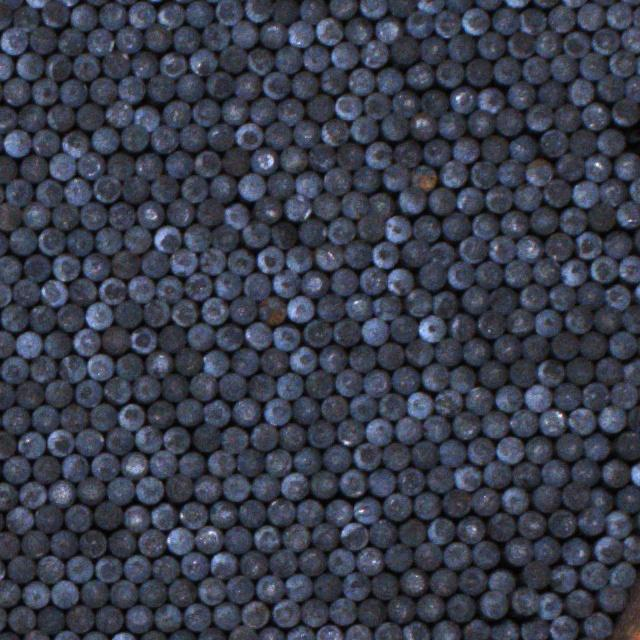tool: (256, 295, 285, 325), (561, 480, 590, 510), (340, 190, 370, 218), (221, 146, 249, 175), (252, 195, 281, 223), (297, 218, 326, 246), (154, 275, 182, 304), (512, 461, 541, 489), (359, 317, 388, 345), (305, 369, 333, 398), (5, 505, 33, 534), (194, 524, 222, 553), (238, 550, 266, 579), (94, 604, 123, 632), (110, 251, 140, 278), (598, 582, 626, 610), (576, 2, 604, 30), (420, 90, 448, 118), (182, 223, 210, 251), (314, 242, 342, 270), (418, 262, 446, 290), (358, 266, 386, 294), (464, 386, 492, 414), (476, 310, 504, 338), (493, 334, 521, 362), (594, 358, 622, 386), (597, 404, 625, 432), (494, 384, 522, 412), (509, 408, 537, 436), (541, 458, 569, 486), (500, 486, 528, 514), (520, 560, 548, 588), (564, 588, 592, 616), (446, 593, 474, 621), (156, 324, 184, 352), (186, 322, 214, 350), (244, 321, 272, 349), (344, 292, 372, 320), (259, 348, 287, 376), (288, 345, 316, 373), (15, 380, 43, 408), (132, 374, 160, 402), (218, 372, 246, 400), (391, 366, 419, 394), (231, 398, 259, 426), (74, 428, 102, 456), (306, 420, 334, 448), (2, 455, 30, 483), (90, 452, 118, 480), (236, 448, 264, 476), (292, 446, 320, 474), (352, 442, 380, 470), (76, 476, 104, 504), (192, 474, 220, 502), (280, 472, 308, 500), (367, 468, 395, 496), (352, 496, 380, 524), (383, 492, 411, 520), (412, 491, 440, 519), (137, 528, 165, 556), (223, 526, 251, 554), (340, 522, 368, 550), (456, 515, 484, 543), (603, 510, 631, 538), (122, 554, 150, 582), (442, 542, 470, 570), (138, 578, 166, 606), (168, 578, 196, 606), (255, 574, 283, 602), (313, 572, 341, 600), (399, 568, 427, 596), (357, 598, 385, 626), (240, 600, 268, 628), (65, 604, 93, 632), (98, 1, 125, 30), (128, 0, 155, 29), (554, 433, 583, 460), (388, 314, 417, 341), (362, 368, 389, 397), (433, 389, 462, 416), (322, 444, 351, 471), (50, 529, 77, 558), (282, 523, 309, 552), (593, 535, 620, 564), (269, 548, 296, 577), (355, 546, 382, 575), (504, 308, 534, 334), (485, 514, 515, 540), (315, 17, 342, 45), (406, 10, 433, 38), (461, 6, 488, 34), (15, 52, 42, 80), (188, 48, 216, 75), (360, 40, 387, 68), (391, 35, 418, 63), (522, 56, 549, 84), (17, 105, 45, 132), (363, 141, 391, 168), (480, 135, 508, 162), (587, 203, 615, 230), (63, 177, 90, 205), (92, 175, 120, 202), (150, 175, 178, 202), (323, 167, 351, 194), (352, 166, 380, 193), (312, 192, 339, 220), (9, 227, 37, 254), (37, 227, 65, 254), (153, 225, 180, 253), (169, 248, 196, 276), (141, 250, 168, 278), (82, 253, 110, 280), (40, 279, 67, 307), (127, 275, 154, 303), (458, 236, 486, 263), (544, 233, 572, 260), (574, 231, 602, 258), (474, 260, 502, 287), (434, 336, 461, 364), (480, 409, 507, 437), (548, 509, 575, 537), (580, 560, 607, 588), (576, 282, 604, 309), (578, 332, 606, 359), (550, 332, 578, 359), (521, 334, 549, 361), (565, 357, 593, 384), (580, 382, 608, 409), (538, 408, 565, 436), (524, 436, 552, 463), (571, 459, 599, 486), (518, 511, 546, 538), (532, 535, 559, 563), (479, 590, 506, 618), (457, 567, 485, 594), (85, 302, 112, 330), (228, 296, 255, 324), (304, 319, 332, 346), (58, 354, 85, 382), (230, 348, 258, 375), (319, 344, 346, 372), (160, 374, 187, 402), (189, 372, 216, 400), (334, 368, 361, 396), (60, 404, 87, 432), (263, 398, 291, 425), (348, 393, 376, 420), (364, 418, 392, 445), (149, 450, 176, 478), (264, 448, 291, 476), (410, 440, 437, 468), (438, 439, 465, 467), (18, 481, 46, 508), (251, 474, 279, 501), (35, 504, 62, 532), (209, 500, 236, 528), (266, 498, 294, 525), (21, 529, 48, 557), (369, 518, 396, 546), (65, 554, 92, 582), (152, 556, 179, 584), (210, 551, 237, 579), (298, 547, 325, 575), (326, 548, 354, 575), (384, 543, 411, 571), (197, 576, 224, 604), (225, 574, 252, 602), (342, 572, 369, 600), (429, 568, 456, 596), (416, 593, 443, 621), (328, 597, 356, 624), (272, 599, 299, 627), (212, 602, 239, 630), (183, 603, 210, 631), (154, 603, 181, 631), (273, 269, 299, 298), (102, 326, 128, 355), (48, 479, 74, 508), (165, 473, 191, 502), (41, 0, 68, 27), (185, 0, 212, 27), (29, 26, 56, 53), (144, 23, 171, 50), (274, 46, 301, 73), (476, 32, 503, 59), (262, 71, 289, 98), (349, 116, 376, 143), (580, 102, 607, 129), (48, 153, 75, 180), (250, 147, 277, 174), (613, 152, 640, 179), (497, 159, 524, 186), (180, 174, 207, 201), (237, 173, 264, 200), (381, 163, 408, 190), (529, 207, 556, 234), (51, 202, 78, 229), (79, 202, 106, 229), (196, 199, 223, 226), (94, 227, 121, 254), (123, 225, 150, 252), (22, 254, 49, 281), (12, 279, 39, 306), (402, 240, 429, 267), (515, 235, 542, 262), (504, 259, 531, 286), (404, 289, 431, 316), (417, 314, 444, 341), (461, 285, 488, 312), (553, 382, 580, 409), (524, 384, 551, 411), (0, 356, 27, 383), (421, 363, 448, 390), (1, 406, 28, 433), (17, 430, 44, 457), (134, 425, 161, 452), (220, 426, 247, 453), (250, 423, 277, 450), (394, 417, 421, 444), (382, 442, 409, 469), (106, 477, 133, 504), (135, 476, 162, 503), (222, 474, 249, 501), (453, 464, 480, 491), (471, 488, 498, 515), (442, 489, 469, 516), (166, 526, 193, 553), (7, 555, 34, 582), (94, 555, 121, 582), (180, 552, 207, 579), (21, 581, 48, 608), (51, 580, 78, 607), (80, 579, 107, 606), (284, 573, 311, 600), (387, 595, 414, 622), (157, 1, 183, 29), (230, 20, 256, 48), (219, 44, 245, 72), (591, 28, 619, 54), (176, 74, 202, 102), (234, 72, 260, 100), (46, 103, 74, 129), (249, 97, 275, 125), (3, 128, 29, 156), (279, 146, 307, 172), (336, 142, 362, 170), (540, 130, 568, 156), (568, 130, 596, 156), (596, 130, 624, 156), (524, 159, 552, 185), (556, 154, 584, 180), (599, 178, 625, 206), (120, 176, 148, 202), (294, 170, 320, 198), (500, 210, 526, 238), (22, 201, 48, 229), (166, 198, 192, 226), (284, 192, 310, 220), (241, 221, 269, 247), (98, 276, 124, 304), (198, 248, 226, 274), (488, 235, 514, 263), (603, 231, 631, 257), (300, 270, 326, 298), (496, 436, 522, 464), (568, 406, 594, 434), (484, 460, 510, 488), (15, 330, 41, 358), (28, 304, 54, 332), (114, 299, 140, 327), (171, 298, 197, 326), (201, 297, 227, 325), (72, 328, 100, 354), (214, 324, 242, 350), (316, 294, 344, 320), (175, 347, 201, 375), (405, 340, 433, 366), (44, 379, 70, 407), (74, 379, 100, 407), (104, 376, 130, 404), (248, 374, 276, 400), (147, 400, 173, 428), (406, 391, 432, 419), (46, 428, 72, 456), (193, 423, 219, 451), (336, 418, 362, 446), (339, 468, 365, 496), (397, 467, 423, 495), (65, 504, 91, 532), (94, 501, 120, 529), (238, 499, 264, 527), (325, 499, 351, 527), (78, 529, 104, 557), (252, 524, 278, 552), (110, 579, 136, 607), (301, 598, 327, 626), (126, 604, 152, 632), (582, 612, 611, 637), (35, 178, 60, 207), (1, 303, 26, 332), (609, 562, 636, 588), (57, 28, 83, 55), (86, 29, 113, 55), (115, 26, 141, 53), (172, 26, 198, 53), (344, 18, 371, 44), (434, 10, 460, 37), (518, 8, 545, 34), (73, 53, 99, 80), (160, 52, 187, 78), (245, 48, 272, 74), (330, 42, 357, 68), (418, 36, 444, 63), (447, 35, 474, 61), (291, 72, 318, 98), (466, 59, 492, 86), (493, 57, 519, 84), (550, 54, 576, 81), (578, 52, 604, 79), (163, 100, 190, 126), (192, 99, 218, 126), (277, 98, 303, 125), (306, 94, 333, 120), (392, 90, 419, 116), (450, 87, 476, 114), (567, 78, 593, 105), (121, 124, 148, 150), (235, 122, 261, 149), (78, 152, 104, 179), (106, 153, 132, 180), (136, 153, 162, 180), (166, 151, 192, 178), (422, 139, 449, 165), (509, 135, 535, 162), (440, 160, 466, 187), (584, 154, 610, 181), (559, 208, 586, 234), (4, 178, 30, 205), (209, 175, 235, 202), (266, 171, 292, 198), (456, 187, 483, 213), (383, 216, 410, 242), (412, 215, 438, 242), (442, 212, 469, 238), (471, 213, 498, 239), (513, 182, 540, 208), (108, 202, 134, 229), (136, 200, 162, 227), (223, 202, 249, 229), (328, 217, 354, 244), (211, 223, 237, 250), (52, 254, 78, 281), (68, 278, 95, 304), (257, 246, 283, 273), (285, 245, 311, 272), (344, 240, 371, 266), (447, 261, 473, 288), (532, 258, 559, 284), (590, 256, 617, 282), (214, 272, 240, 299), (243, 273, 269, 300), (330, 268, 357, 294), (532, 484, 558, 511), (488, 287, 515, 313), (518, 284, 545, 310), (534, 308, 560, 335), (564, 306, 590, 333), (593, 306, 619, 333), (609, 332, 636, 358), (462, 338, 488, 365), (509, 360, 536, 386), (602, 459, 628, 486), (549, 564, 576, 590), (472, 540, 498, 567), (510, 587, 537, 613), (56, 304, 82, 331), (286, 295, 312, 322), (332, 318, 358, 345), (29, 355, 55, 382), (86, 353, 112, 380), (116, 353, 142, 380), (145, 350, 171, 377), (276, 372, 302, 399), (32, 405, 58, 432), (90, 403, 116, 430), (175, 399, 202, 425), (202, 400, 229, 426), (292, 396, 318, 423), (320, 395, 347, 421), (378, 393, 405, 419), (105, 427, 132, 453), (452, 412, 479, 438), (32, 456, 59, 482), (61, 454, 87, 481), (121, 452, 147, 479), (310, 471, 336, 498), (426, 466, 453, 492), (179, 502, 206, 528), (296, 499, 322, 526), (312, 523, 338, 550), (427, 518, 454, 544), (36, 556, 63, 582), (414, 542, 440, 569), (12, 4, 37, 32), (215, 0, 243, 25), (374, 17, 402, 42), (3, 77, 28, 105), (134, 104, 159, 132), (615, 200, 640, 228), (543, 180, 571, 205), (410, 164, 435, 192), (357, 213, 382, 241), (448, 312, 473, 340), (143, 298, 168, 326), (372, 294, 400, 319), (615, 484, 640, 512), (70, 4, 96, 30), (0, 27, 26, 53), (202, 23, 228, 49), (260, 22, 286, 48), (492, 8, 518, 34), (548, 6, 574, 32), (606, 2, 632, 28), (44, 53, 70, 79), (102, 51, 128, 77), (302, 45, 328, 71), (534, 30, 560, 56), (60, 80, 86, 106), (147, 75, 173, 101), (406, 63, 432, 89), (436, 61, 462, 87), (609, 50, 635, 76), (106, 100, 132, 126), (222, 98, 248, 124), (364, 92, 390, 118), (508, 82, 534, 108), (321, 119, 347, 145), (496, 108, 522, 134), (526, 104, 552, 130), (20, 155, 46, 181), (308, 144, 334, 170), (452, 137, 478, 163), (572, 181, 598, 207), (184, 274, 210, 300), (372, 242, 398, 268), (560, 259, 586, 285), (562, 538, 588, 564), (610, 381, 636, 407), (479, 362, 505, 388), (584, 433, 610, 459), (504, 538, 530, 564), (273, 324, 299, 350), (202, 350, 228, 376), (278, 423, 304, 449), (423, 415, 449, 441), (178, 451, 204, 477), (398, 520, 424, 546), (577, 508, 603, 534), (8, 606, 34, 632), (287, 20, 312, 47), (562, 32, 589, 57), (88, 78, 115, 103), (409, 112, 434, 139), (193, 151, 220, 176), (428, 188, 453, 215), (485, 185, 510, 212), (429, 241, 454, 268), (449, 366, 474, 393), (549, 615, 576, 640), (348, 346, 375, 371), (377, 342, 402, 369), (118, 403, 143, 430), (162, 427, 189, 452), (207, 451, 234, 476), (123, 505, 148, 532), (151, 502, 176, 529), (109, 529, 134, 556), (37, 606, 62, 633), (507, 32, 533, 57), (118, 76, 143, 102), (206, 72, 231, 98), (320, 68, 345, 94), (376, 68, 401, 94), (77, 104, 103, 129), (538, 82, 564, 107), (32, 129, 58, 154), (438, 112, 463, 138), (394, 140, 419, 166), (399, 187, 424, 213), (368, 192, 393, 218), (270, 222, 295, 248), (67, 230, 92, 256), (227, 249, 252, 275), (431, 290, 456, 316), (548, 284, 574, 309), (604, 284, 629, 310), (536, 360, 562, 385), (615, 432, 640, 458), (468, 437, 493, 463), (43, 332, 69, 357), (130, 327, 156, 352), (371, 573, 396, 599), (334, 95, 361, 119), (388, 268, 412, 295), (537, 592, 561, 619), (299, 0, 327, 23), (520, 617, 548, 640), (131, 52, 156, 77), (32, 78, 57, 103), (478, 88, 503, 113), (92, 127, 117, 152), (265, 121, 290, 146), (554, 105, 579, 130), (612, 99, 637, 124), (471, 162, 496, 187), (348, 68, 372, 94), (62, 130, 86, 156), (206, 124, 232, 148), (293, 120, 317, 146), (380, 114, 406, 138), (468, 110, 492, 136), (244, 0, 272, 22), (598, 75, 622, 100), (152, 126, 176, 151), (488, 569, 513, 593), (272, 0, 298, 23), (180, 124, 203, 150), (462, 618, 489, 640), (0, 201, 20, 230), (618, 255, 640, 281), (590, 488, 612, 514), (491, 619, 518, 640), (620, 304, 640, 332), (0, 255, 20, 282), (328, 0, 356, 19), (358, 0, 386, 19), (620, 536, 640, 562), (620, 26, 640, 52), (432, 620, 458, 640), (0, 531, 19, 558), (0, 579, 19, 606), (374, 622, 402, 640), (403, 621, 429, 640), (386, 0, 416, 16), (0, 482, 17, 509), (622, 360, 640, 385), (0, 156, 16, 184), (344, 623, 370, 640), (315, 624, 342, 640), (0, 431, 15, 459), (228, 625, 256, 640), (0, 106, 16, 132), (624, 74, 640, 100), (286, 625, 313, 640), (626, 404, 640, 432), (0, 330, 14, 357), (257, 626, 284, 640), (416, 0, 444, 13), (444, 0, 472, 13), (0, 381, 13, 409), (198, 627, 225, 640), (0, 52, 12, 79), (0, 2, 11, 29), (0, 280, 10, 306)
tool_b: (620, 126, 640, 154)
